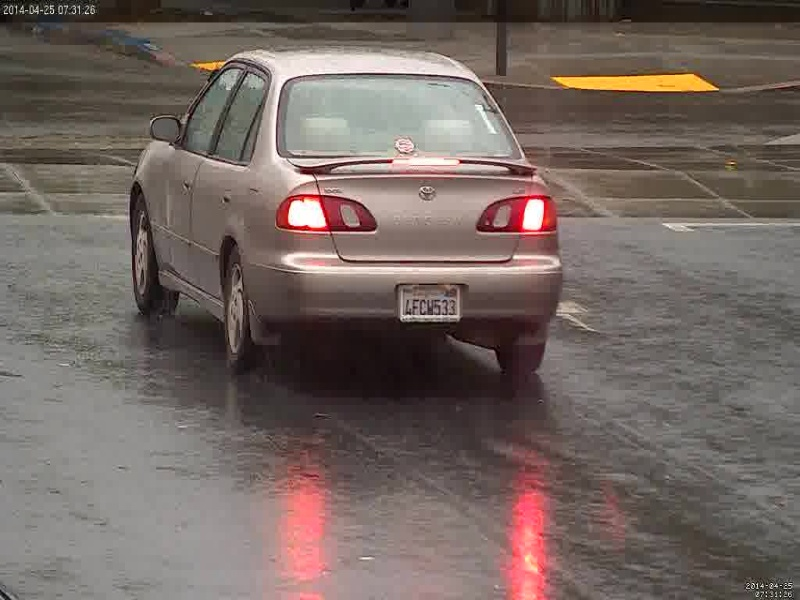licence plate: (397, 282, 461, 323)
